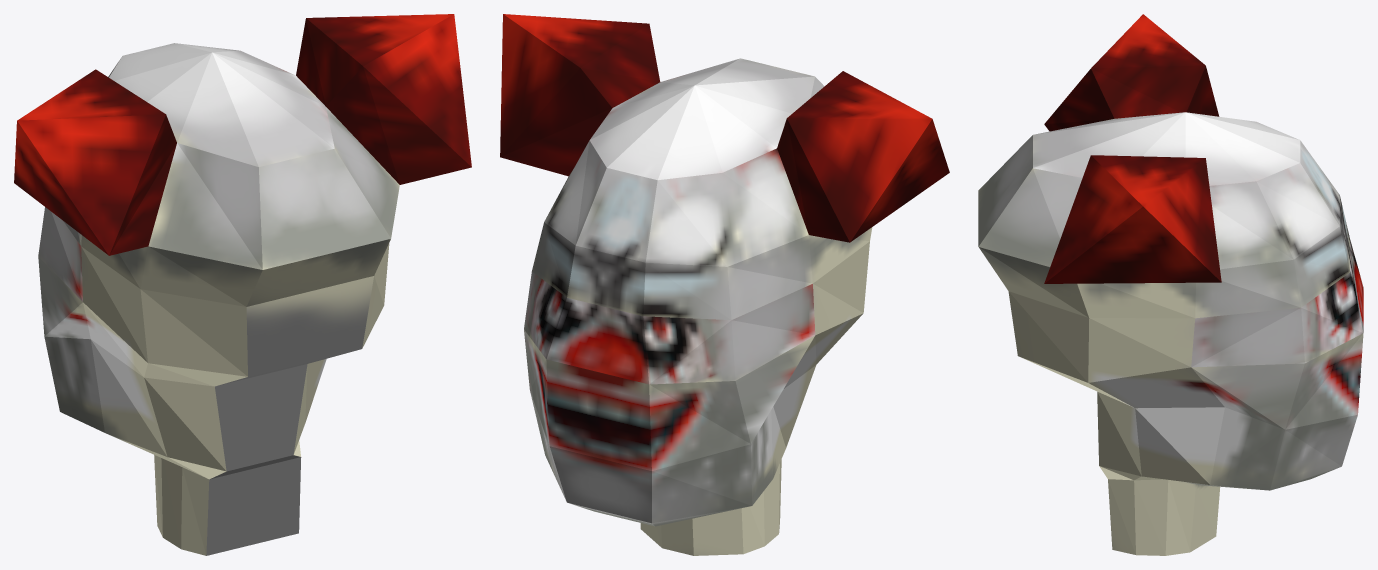
File: ClownMask.fbx
3 renders of one model, left to right at view 1: azimuth 30°, elevation 25°; view 2: azimuth 150°, elevation 25°; view 3: azimuth 270°, elevation 25°, orthographic. The views are drawn at different scales.
Parts seen in each view (by area): view 1: Head; view 2: Head; view 3: Head.
Boxes of the visible parts, box(x1,y1,x2,y2) form: Head: box(14, 14, 471, 555); Head: box(500, 14, 949, 555); Head: box(978, 14, 1363, 555).
Bounding box in the file's own units: 98.26 × 99.81 × 83.08.
1 material, 1 textured.
